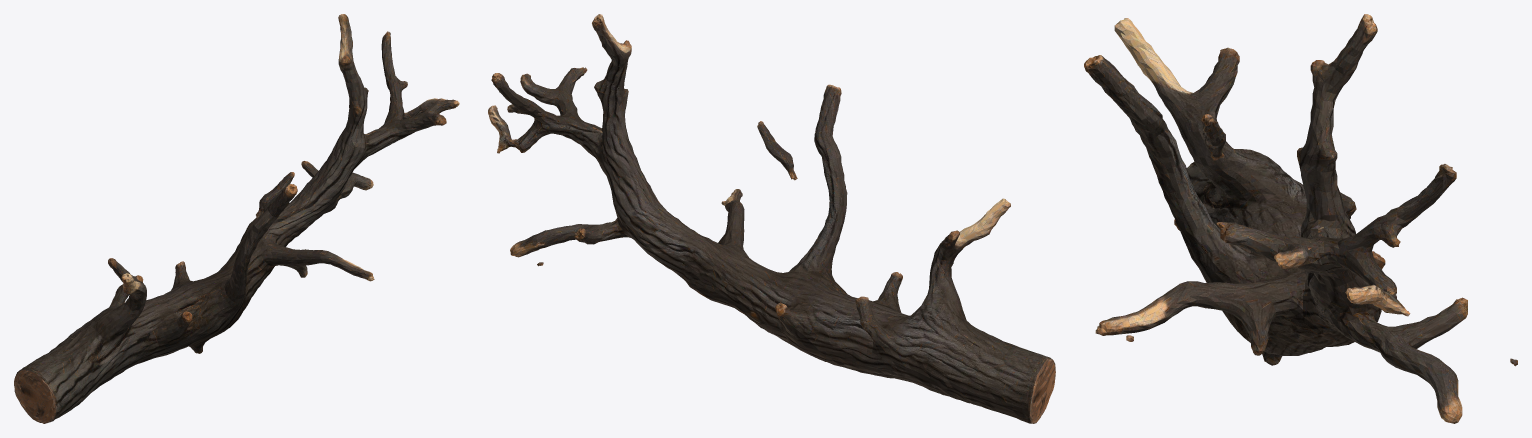
Rendered from resource-branch-final.glb.
3 renders of one model, left to right at view 1: azimuth 30°, elevation 25°; view 2: azimuth 150°, elevation 25°; view 3: azimuth 270°, elevation 25°, orthographic. The views are drawn at different scales.
Visible parts, largest first — view 1: Mesh_0; view 2: Mesh_0; view 3: Mesh_0.
Part boxes in pixels (x1=…): Mesh_0: x1=14, y1=14, x2=459, y2=423; Mesh_0: x1=488, y1=14, x2=1055, y2=423; Mesh_0: x1=1084, y1=14, x2=1517, y2=423.
Size of the model in its own units: 0.479 by 0.3 by 0.2223.
Materials: 1 (1 with a texture image).
